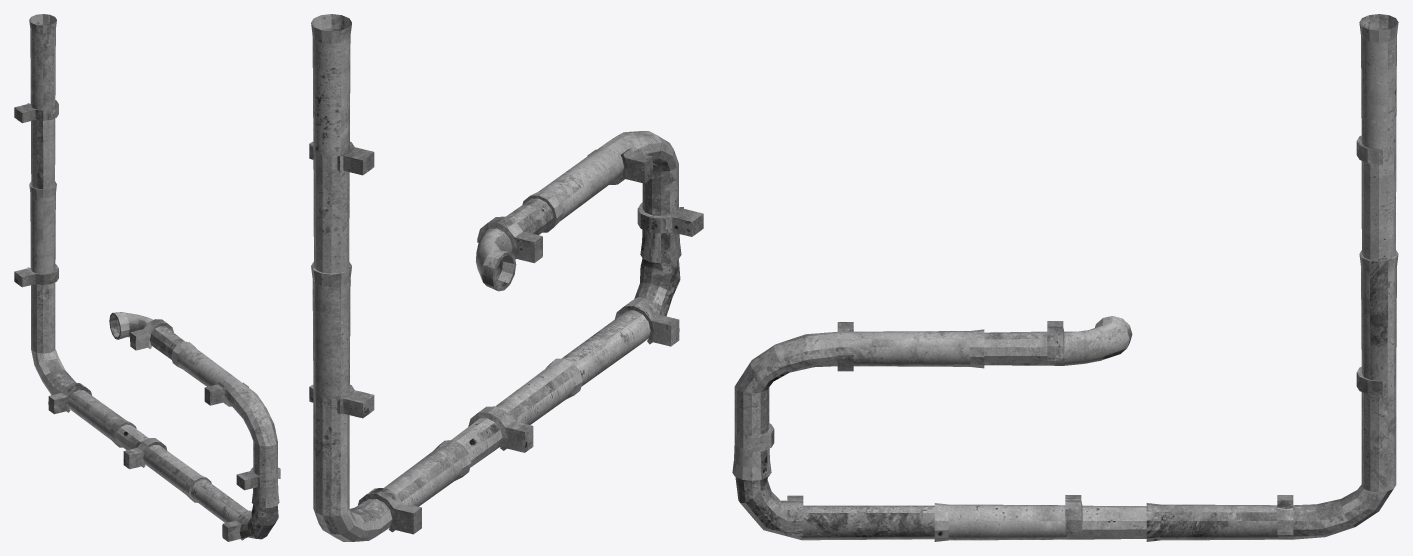
File: pipe_small.FBX
The picture shows the model from 3 angles, left to right: view 1: azimuth 30°, elevation 25°; view 2: azimuth 150°, elevation 25°; view 3: azimuth 270°, elevation 25°; orthographic projection. The views are drawn at different scales.
Parts seen in each view (by area): view 1: pipe_small; view 2: pipe_small; view 3: pipe_small.
Part boxes in pixels (x1,y1,x2,y2): pipe_small: (14, 14, 280, 541); pipe_small: (309, 14, 703, 541); pipe_small: (732, 14, 1398, 541).
Bounding box in the file's own units: 22.5 × 204 × 237.
1 material, 1 textured.
